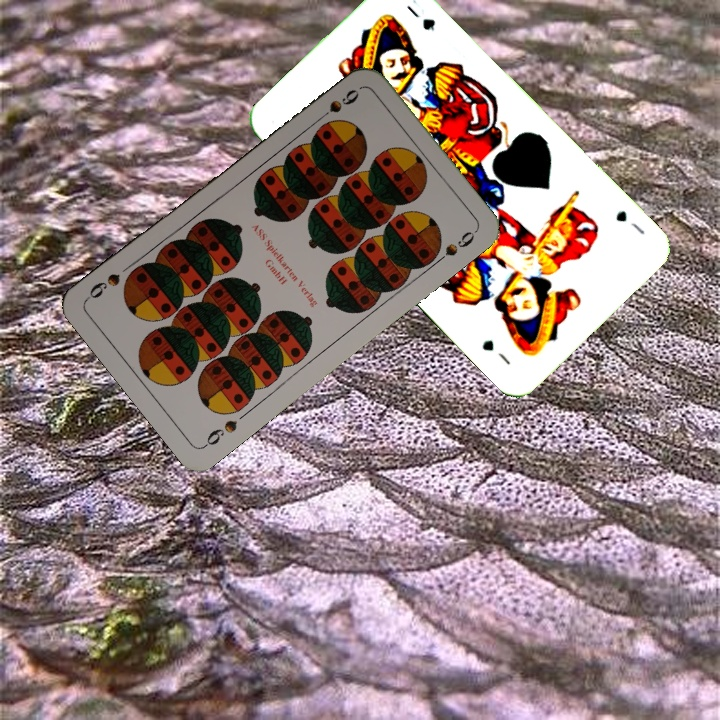GU: (612, 206, 648, 237)
S9: (312, 85, 362, 125), (199, 415, 240, 450)
